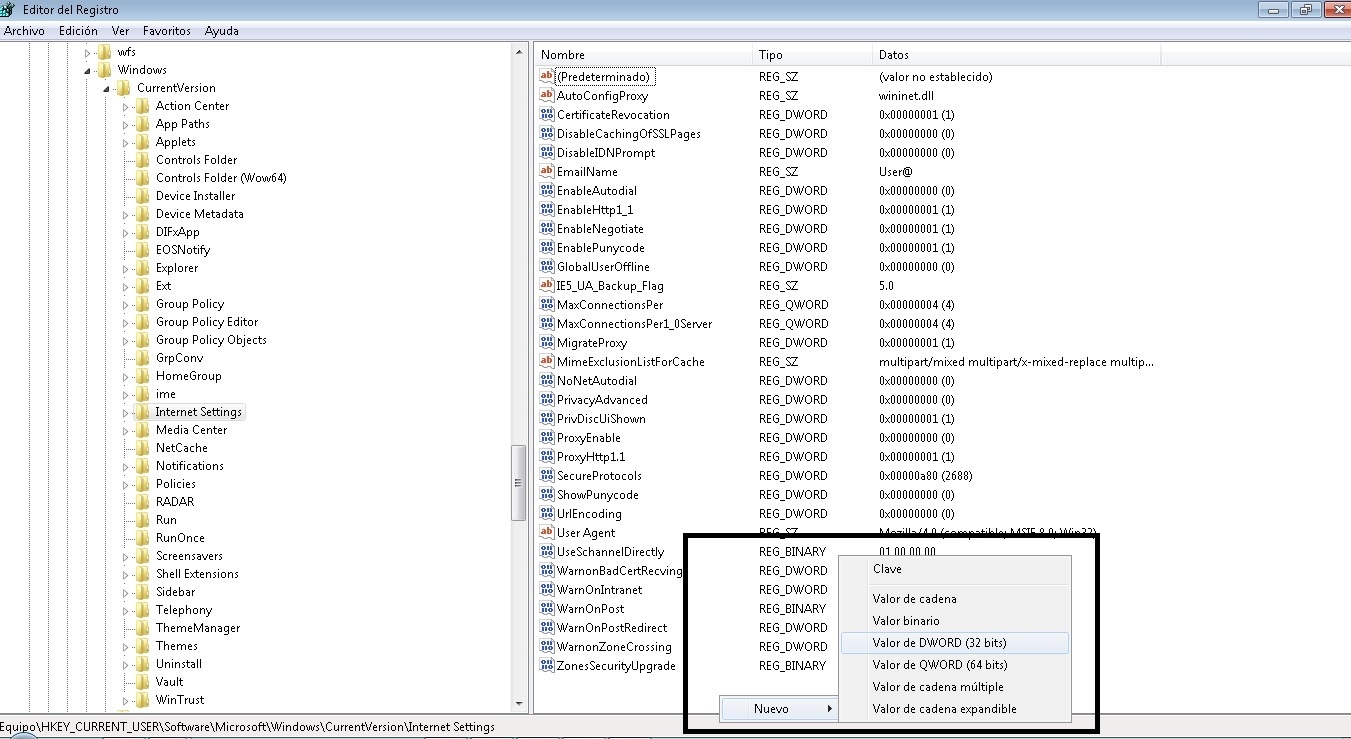button: (721, 697, 837, 720), (134, 169, 288, 186), (132, 402, 247, 421), (134, 332, 268, 348), (134, 314, 260, 331), (133, 204, 244, 223), (134, 564, 239, 582), (134, 619, 241, 636), (134, 151, 238, 168), (134, 457, 225, 475), (134, 97, 230, 114), (134, 188, 236, 204), (115, 80, 216, 96), (134, 367, 223, 385), (134, 422, 228, 439), (134, 295, 226, 312), (134, 547, 223, 564), (134, 114, 210, 132), (133, 241, 211, 258), (134, 691, 206, 709), (134, 602, 214, 618), (134, 529, 206, 546), (97, 61, 168, 78), (134, 349, 205, 366), (134, 440, 209, 456), (134, 637, 199, 655), (133, 223, 201, 240), (511, 444, 526, 521), (134, 656, 204, 672), (134, 132, 196, 150), (134, 259, 198, 276), (134, 476, 198, 493), (134, 584, 196, 601), (134, 494, 195, 510), (135, 674, 186, 690), (134, 511, 180, 528), (134, 385, 178, 402), (97, 43, 140, 60), (142, 24, 192, 38), (1, 22, 45, 37), (134, 278, 173, 294), (57, 23, 98, 37), (203, 23, 239, 38), (1258, 1, 1288, 18), (1290, 1, 1320, 18), (1324, 1, 1351, 18), (511, 42, 529, 60), (1, 1, 18, 19), (511, 696, 528, 713), (110, 23, 130, 37), (101, 83, 112, 94), (121, 479, 131, 491), (120, 551, 130, 563), (121, 641, 130, 654), (82, 66, 92, 77), (121, 570, 131, 581), (120, 696, 130, 707), (84, 48, 93, 60), (121, 426, 130, 438), (122, 462, 131, 474), (121, 588, 130, 600), (121, 605, 130, 617), (121, 102, 130, 113), (121, 120, 130, 131), (120, 137, 129, 148), (121, 264, 130, 275), (121, 390, 130, 401), (121, 209, 129, 221), (122, 371, 130, 383), (121, 301, 130, 311), (121, 660, 130, 670), (121, 282, 129, 293), (122, 409, 130, 420), (121, 228, 129, 238), (122, 319, 130, 329), (122, 336, 129, 347)
common: (1, 717, 498, 735)
container: (530, 39, 1351, 714), (1, 42, 530, 714), (1, 40, 510, 714), (838, 556, 1072, 722), (1, 714, 1351, 739), (1, 21, 1351, 41), (1, 1, 1351, 20), (511, 42, 529, 714), (870, 555, 1072, 584), (840, 630, 1070, 654), (870, 656, 1008, 674), (122, 331, 268, 348), (871, 679, 1006, 697), (122, 402, 247, 421), (870, 700, 1018, 716), (122, 314, 260, 331), (121, 204, 244, 223), (121, 564, 239, 582), (122, 457, 225, 475), (121, 97, 230, 114), (101, 80, 216, 96), (121, 422, 228, 439), (122, 367, 223, 385), (121, 295, 226, 312), (120, 547, 223, 564), (870, 590, 960, 609), (120, 691, 206, 710), (121, 115, 210, 132), (121, 602, 214, 618), (121, 636, 199, 655), (82, 61, 167, 78), (121, 223, 201, 241), (121, 656, 204, 673), (121, 475, 198, 493), (121, 259, 198, 276), (120, 133, 196, 150), (121, 584, 196, 601), (82, 41, 142, 60), (872, 613, 943, 629), (121, 385, 178, 401), (121, 278, 174, 294)
header: (22, 2, 119, 19)
table-cell: (872, 41, 1161, 65), (872, 65, 1161, 84), (872, 84, 1161, 103), (872, 103, 1161, 122), (872, 122, 1161, 141), (872, 141, 1161, 160), (872, 160, 1161, 179), (872, 179, 1161, 198), (872, 198, 1161, 217), (872, 217, 1161, 236), (872, 236, 1161, 255), (872, 255, 1161, 274), (872, 274, 1161, 293), (872, 293, 1161, 312), (872, 312, 1161, 331), (872, 331, 1161, 350), (872, 350, 1161, 369), (872, 369, 1161, 388), (872, 388, 1161, 407), (872, 407, 1161, 426), (872, 426, 1161, 445), (872, 445, 1161, 464), (872, 464, 1161, 483), (872, 483, 1161, 502), (872, 502, 1161, 521), (872, 521, 1161, 540), (872, 540, 1161, 559), (533, 41, 752, 65), (533, 65, 752, 84), (533, 84, 752, 103), (533, 103, 752, 122), (533, 122, 752, 141), (533, 141, 752, 160), (533, 160, 752, 179), (533, 179, 752, 198), (533, 198, 752, 217), (533, 217, 752, 236), (533, 236, 752, 255), (533, 255, 752, 274), (533, 274, 752, 293), (533, 293, 752, 312), (533, 312, 752, 331), (533, 331, 752, 350), (533, 350, 752, 369), (533, 369, 752, 388), (533, 388, 752, 407), (533, 407, 752, 426), (533, 426, 752, 445), (533, 445, 752, 464), (533, 464, 752, 483), (533, 483, 752, 502), (533, 502, 752, 521), (533, 521, 752, 540), (533, 540, 752, 559), (533, 559, 752, 578), (533, 578, 752, 597), (533, 597, 752, 616), (533, 616, 752, 635), (533, 635, 752, 654), (533, 654, 752, 673), (752, 41, 872, 65), (752, 65, 872, 84), (752, 84, 872, 103), (752, 103, 872, 122), (752, 122, 872, 141), (752, 141, 872, 160), (752, 160, 872, 179), (752, 179, 872, 198), (752, 198, 872, 217), (752, 217, 872, 236), (752, 236, 872, 255), (752, 255, 872, 274), (752, 274, 872, 293), (752, 293, 872, 312), (752, 312, 872, 331), (752, 331, 872, 350), (752, 350, 872, 369), (752, 369, 872, 388), (752, 388, 872, 407), (752, 407, 872, 426), (752, 426, 872, 445), (752, 445, 872, 464), (752, 464, 872, 483), (752, 483, 872, 502), (752, 502, 872, 521), (752, 521, 872, 540), (752, 540, 872, 559), (752, 559, 872, 578), (752, 578, 872, 597), (752, 597, 872, 616), (752, 616, 872, 635), (752, 635, 872, 654), (752, 654, 872, 673)
